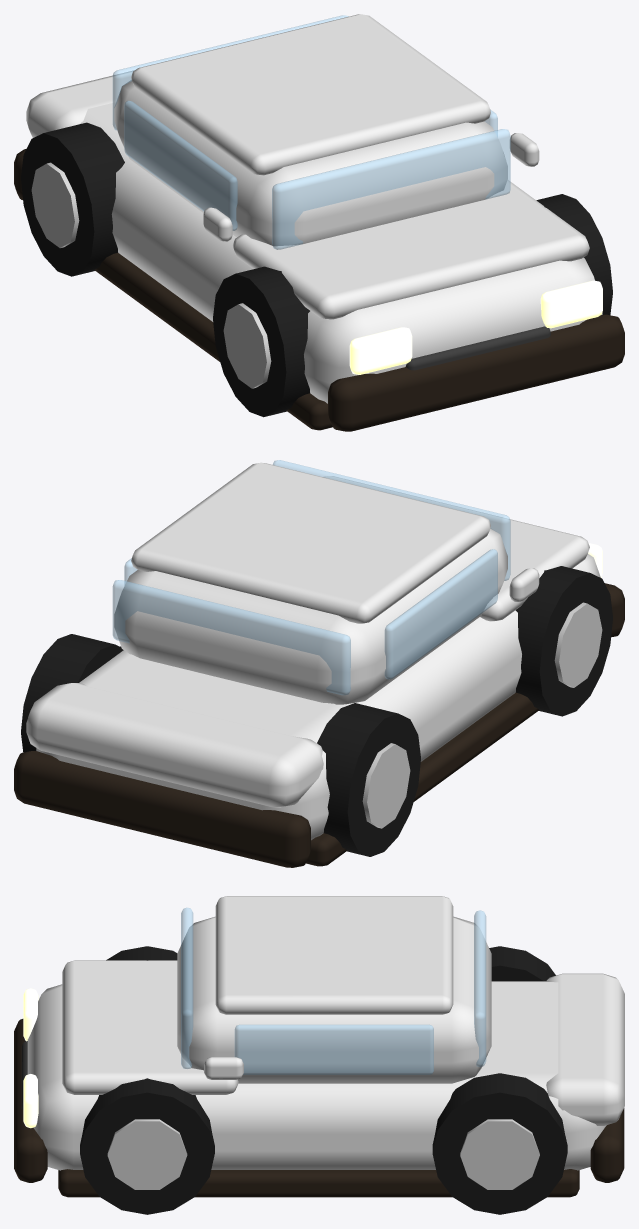
The model's file is car.glb.
3 views of the same model, one above another, from view 1: azimuth 30°, elevation 25°; view 2: azimuth 150°, elevation 25°; view 3: azimuth 270°, elevation 25° (orthographic). The views are drawn at different scales.
Parts seen in each view (by area): view 1: roof, body_cabin, body_lower, body_hood, trim_bumper_f, glass_front, tire_2, tire_0, glass_side_0, trim_skirt, body_tail, rim_2 (+8 smaller); view 2: roof, body_cabin, body_lower, body_tail, trim_bumper_r, tire_2, tire_0, glass_back, glass_side_0, body_hood, trim_skirt, tire_3 (+5 smaller); view 3: body_lower, roof, body_cabin, body_hood, tire_3, tire_1, glass_side_1, body_tail, trim_skirt, rim_3, rim_1, trim_bumper_f (+8 smaller).
Part boxes in pixels (left/top/right/bottom): roof: left=131, top=14, right=490, bottom=175; body_cabin: left=114, top=80, right=507, bottom=246; body_lower: left=79, top=102, right=602, bottom=403; body_hood: left=233, top=180, right=589, bottom=319; trim_bumper_f: left=328, top=314, right=624, bottom=431; glass_front: left=272, top=129, right=510, bottom=249; tire_2: left=21, top=122, right=124, bottom=276; tire_0: left=213, top=266, right=309, bottom=417; glass_side_0: left=124, top=100, right=237, bottom=230; trim_skirt: left=94, top=253, right=332, bottom=430; body_tail: left=26, top=70, right=133, bottom=137; rim_2: left=31, top=162, right=79, bottom=247; roof: left=131, top=462, right=490, bottom=623; body_cabin: left=114, top=528, right=507, bottom=704; body_lower: left=36, top=554, right=600, bottom=840; body_tail: left=26, top=683, right=323, bottom=807; trim_bumper_r: left=14, top=751, right=310, bottom=867; tire_2: left=317, top=703, right=420, bottom=856; tire_0: left=515, top=566, right=612, bottom=716; glass_back: left=112, top=580, right=350, bottom=695; glass_side_0: left=384, top=549, right=497, bottom=679; body_hood: left=323, top=476, right=589, bottom=621; trim_skirt: left=306, top=692, right=538, bottom=866; tire_3: left=21, top=634, right=123, bottom=752; body_lower: left=27, top=981, right=606, bottom=1170; roof: left=215, top=896, right=453, bottom=1014; body_cabin: left=177, top=916, right=491, bottom=1083; body_hood: left=62, top=960, right=238, bottom=1094; tire_3: left=432, top=1073, right=567, bottom=1214; tire_1: left=80, top=1078, right=214, bottom=1214; glass_side_1: left=234, top=1024, right=433, bottom=1074; body_tail: left=546, top=973, right=624, bottom=1125; trim_skirt: left=58, top=1169, right=579, bottom=1197; rim_3: left=460, top=1119, right=539, bottom=1189; rim_1: left=107, top=1119, right=187, bottom=1189; trim_bumper_f: left=14, top=1019, right=47, bottom=1182.
Size of the model in its own units: 2.32 by 1.41 by 3.99.
